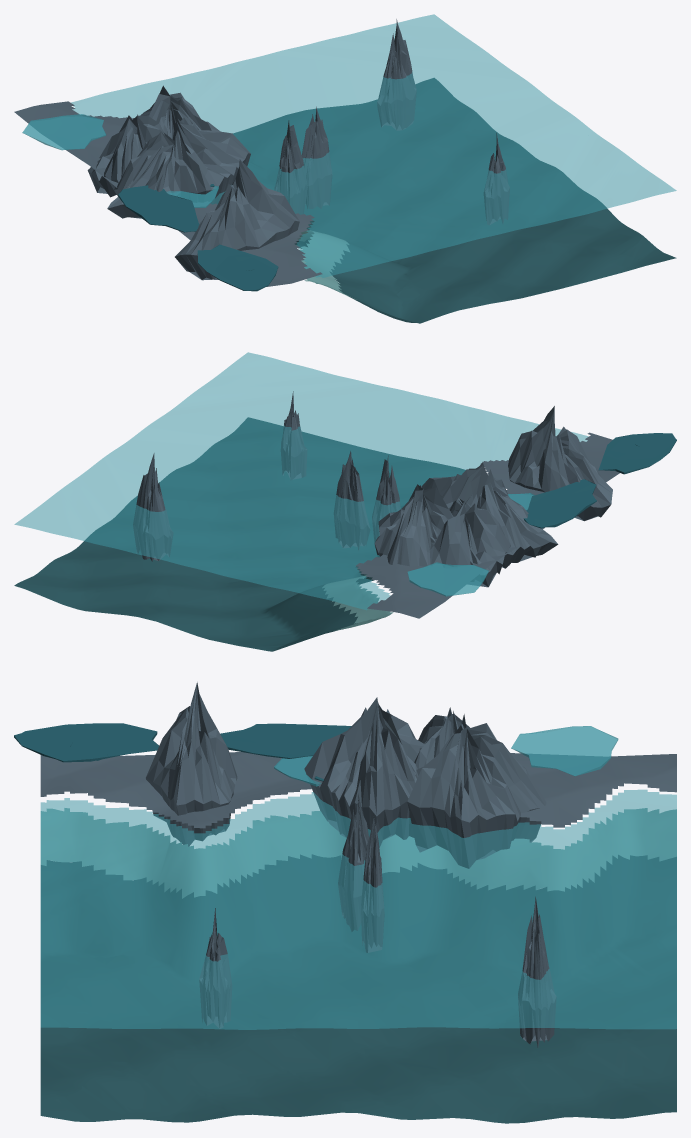
File: water_tile_11.glb
The picture shows the model from 3 angles, top to bottom: view 1: azimuth 30°, elevation 25°; view 2: azimuth 150°, elevation 25°; view 3: azimuth 270°, elevation 25°; orthographic projection. The views are drawn at different scales.
Visible parts, largest first — view 1: glacial water surface 11, submerged mineral riverbed.011, angular fractured shoreline ledge.108, single continuous dark slate shoreline.011, angular fractured shoreline ledge.111, underwater worn boulder.036, angular fractured shoreline ledge.110, erosion water finger above land.136, erosion water finger above land.139, underwater worn boulder.037, isolated flooded rock depression.054, visible shallow mineral shelves.011 (+4 smaller); view 2: glacial water surface 11, submerged mineral riverbed.011, single continuous dark slate shoreline.011, angular fractured shoreline ledge.111, angular fractured shoreline ledge.108, angular fractured shoreline ledge.110, angular fractured shoreline ledge.109, underwater worn boulder.036, underwater worn boulder.037, erosion water finger above land.139, erosion water finger above land.136, isolated flooded rock depression.054 (+3 smaller); view 3: submerged mineral riverbed.011, glacial water surface 11, visible shallow mineral shelves.011, single continuous dark slate shoreline.011, angular fractured shoreline ledge.109, angular fractured shoreline ledge.108, angular fractured shoreline ledge.111, erosion water finger above land.136, isolated flooded rock depression.054, underwater worn boulder.036, erosion water finger above land.139, underwater worn boulder.034 (+4 smaller).
Boxes of the visible parts, x1,y1,x2,y2 form: glacial water surface 11: (71,14,676,277); submerged mineral riverbed.011: (233,78,676,323); angular fractured shoreline ledge.108: (107,117,250,218); single continuous dark slate shoreline.011: (14,101,322,286); angular fractured shoreline ledge.111: (175,159,299,280); underwater worn boulder.036: (377,19,416,130); angular fractured shoreline ledge.110: (87,114,171,197); erosion water finger above land.136: (197,244,278,291); erosion water finger above land.139: (118,185,199,232); underwater worn boulder.037: (302,106,332,209); isolated flooded rock depression.054: (22,114,106,150); visible shallow mineral shelves.011: (297,230,356,299); glacial water surface 11: (14,352,588,610); submerged mineral riverbed.011: (14,417,465,651); single continuous dark slate shoreline.011: (356,432,619,618); angular fractured shoreline ledge.111: (508,406,612,521); angular fractured shoreline ledge.108: (422,462,558,568); angular fractured shoreline ledge.110: (430,498,510,587); angular fractured shoreline ledge.109: (374,484,453,566); underwater worn boulder.036: (133,453,173,561); underwater worn boulder.037: (333,451,370,550); erosion water finger above land.139: (523,479,596,528); erosion water finger above land.136: (598,433,676,474); isolated flooded rock depression.054: (407,562,488,596); submerged mineral riverbed.011: (40,854,676,1123); glacial water surface 11: (40,789,676,1029); visible shallow mineral shelves.011: (40,808,676,898); single continuous dark slate shoreline.011: (40,752,676,828); angular fractured shoreline ledge.109: (407,714,546,868); angular fractured shoreline ledge.108: (304,697,424,847); angular fractured shoreline ledge.111: (146,682,237,846); erosion water finger above land.136: (14,723,158,762); isolated flooded rock depression.054: (511,726,618,776); underwater worn boulder.036: (518,896,556,1047); erosion water finger above land.139: (220,723,351,758); underwater worn boulder.034: (338,793,368,931).
Bounding box in the file's own units: 1.07 × 0.3498 × 1.04.
